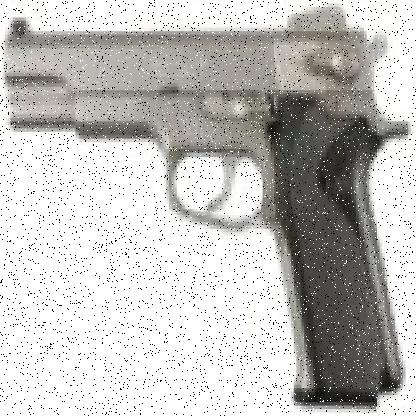pistol: (13, 10, 406, 412)
